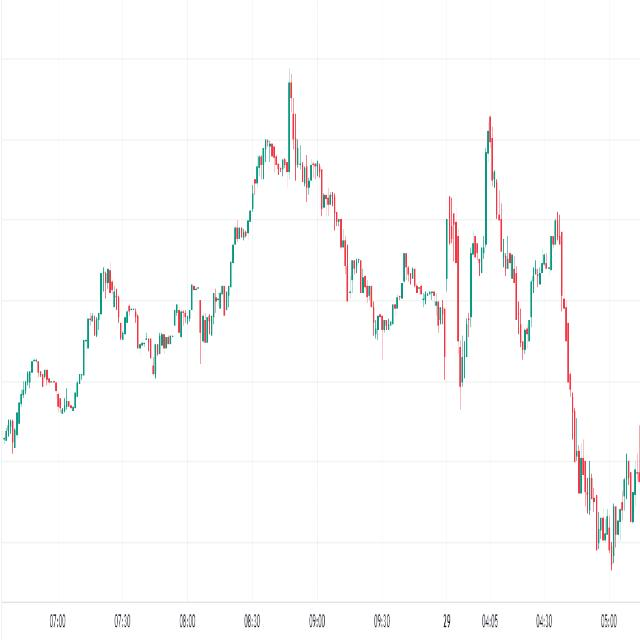Head-Shoulders: (224, 55, 379, 337), (466, 108, 523, 378), (72, 250, 150, 404)
